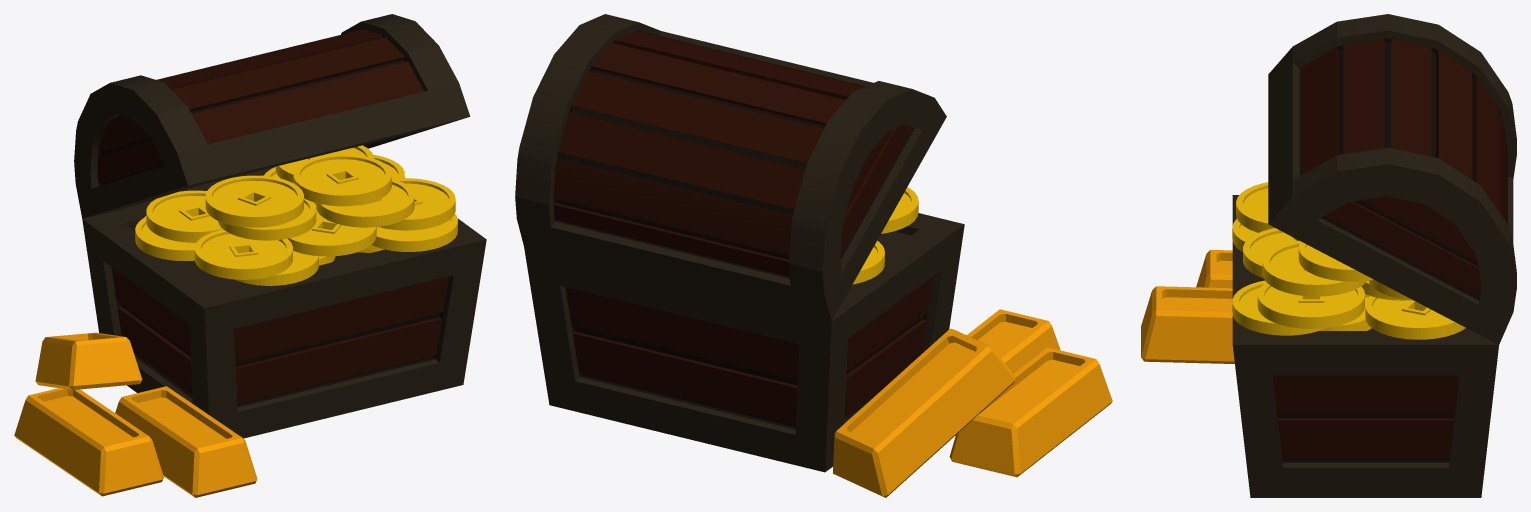
The model's file is schatztruhe.FBX.
The picture shows the model from 3 angles, left to right: view 1: azimuth 30°, elevation 25°; view 2: azimuth 150°, elevation 25°; view 3: azimuth 270°, elevation 25°; orthographic projection. The views are drawn at different scales.
Visible parts, largest first — view 1: beschlag, truhe_deckel_beschlag, barren, holz, truhe_deckel_holz, muenze_018, muenze_019, muenze_010, muenze_011, muenze_015, truhe_fugen, muenze_012 (+7 smaller); view 2: truhe_deckel_holz, truhe_deckel_beschlag, beschlag, barren, holz, truhe_deckel_fuge, truhe_fugen, muenze_010, muenze_009; view 3: truhe_deckel_beschlag, truhe_deckel_holz, beschlag, holz, barren, truhe_deckel_fuge, muenze_013, muenze_005, muenze_015, truhe_fugen, muenze_006, muenze_019 (+4 smaller).
Boxes of the visible parts, box(x1,y1,x2,y2) form: beschlag: box(82, 175, 486, 438); truhe_deckel_beschlag: box(74, 14, 470, 218); barren: box(14, 332, 257, 497); holz: box(111, 267, 448, 403); truhe_deckel_holz: box(97, 29, 423, 183); muenze_018: box(205, 175, 303, 227); muenze_019: box(293, 154, 391, 206); muenze_010: box(194, 229, 292, 279); muenze_011: box(146, 190, 223, 242); muenze_015: box(316, 178, 414, 227); truhe_fugen: box(116, 300, 442, 407); muenze_012: box(288, 204, 376, 256); truhe_deckel_holz: box(553, 31, 912, 276); truhe_deckel_beschlag: box(515, 14, 946, 321); beschlag: box(524, 213, 964, 472); barren: box(833, 309, 1112, 497); holz: box(565, 277, 932, 425); truhe_deckel_fuge: box(553, 31, 914, 278); truhe_fugen: box(571, 313, 927, 429); muenze_010: box(881, 187, 918, 233); muenze_009: box(852, 240, 884, 284); truhe_deckel_beschlag: box(1268, 14, 1516, 344); truhe_deckel_holz: box(1301, 38, 1507, 297); beschlag: box(1232, 195, 1498, 497); holz: box(1272, 375, 1459, 461); barren: box(1141, 249, 1234, 363); truhe_deckel_fuge: box(1299, 38, 1500, 300); muenze_013: box(1257, 282, 1364, 328); muenze_005: box(1365, 296, 1465, 339); muenze_015: box(1262, 240, 1366, 296); truhe_fugen: box(1277, 413, 1454, 462); muenze_006: box(1232, 280, 1325, 335); muenze_019: box(1298, 241, 1373, 281).
Size of the model in its own units: 1.14 by 0.8636 by 0.8464.
